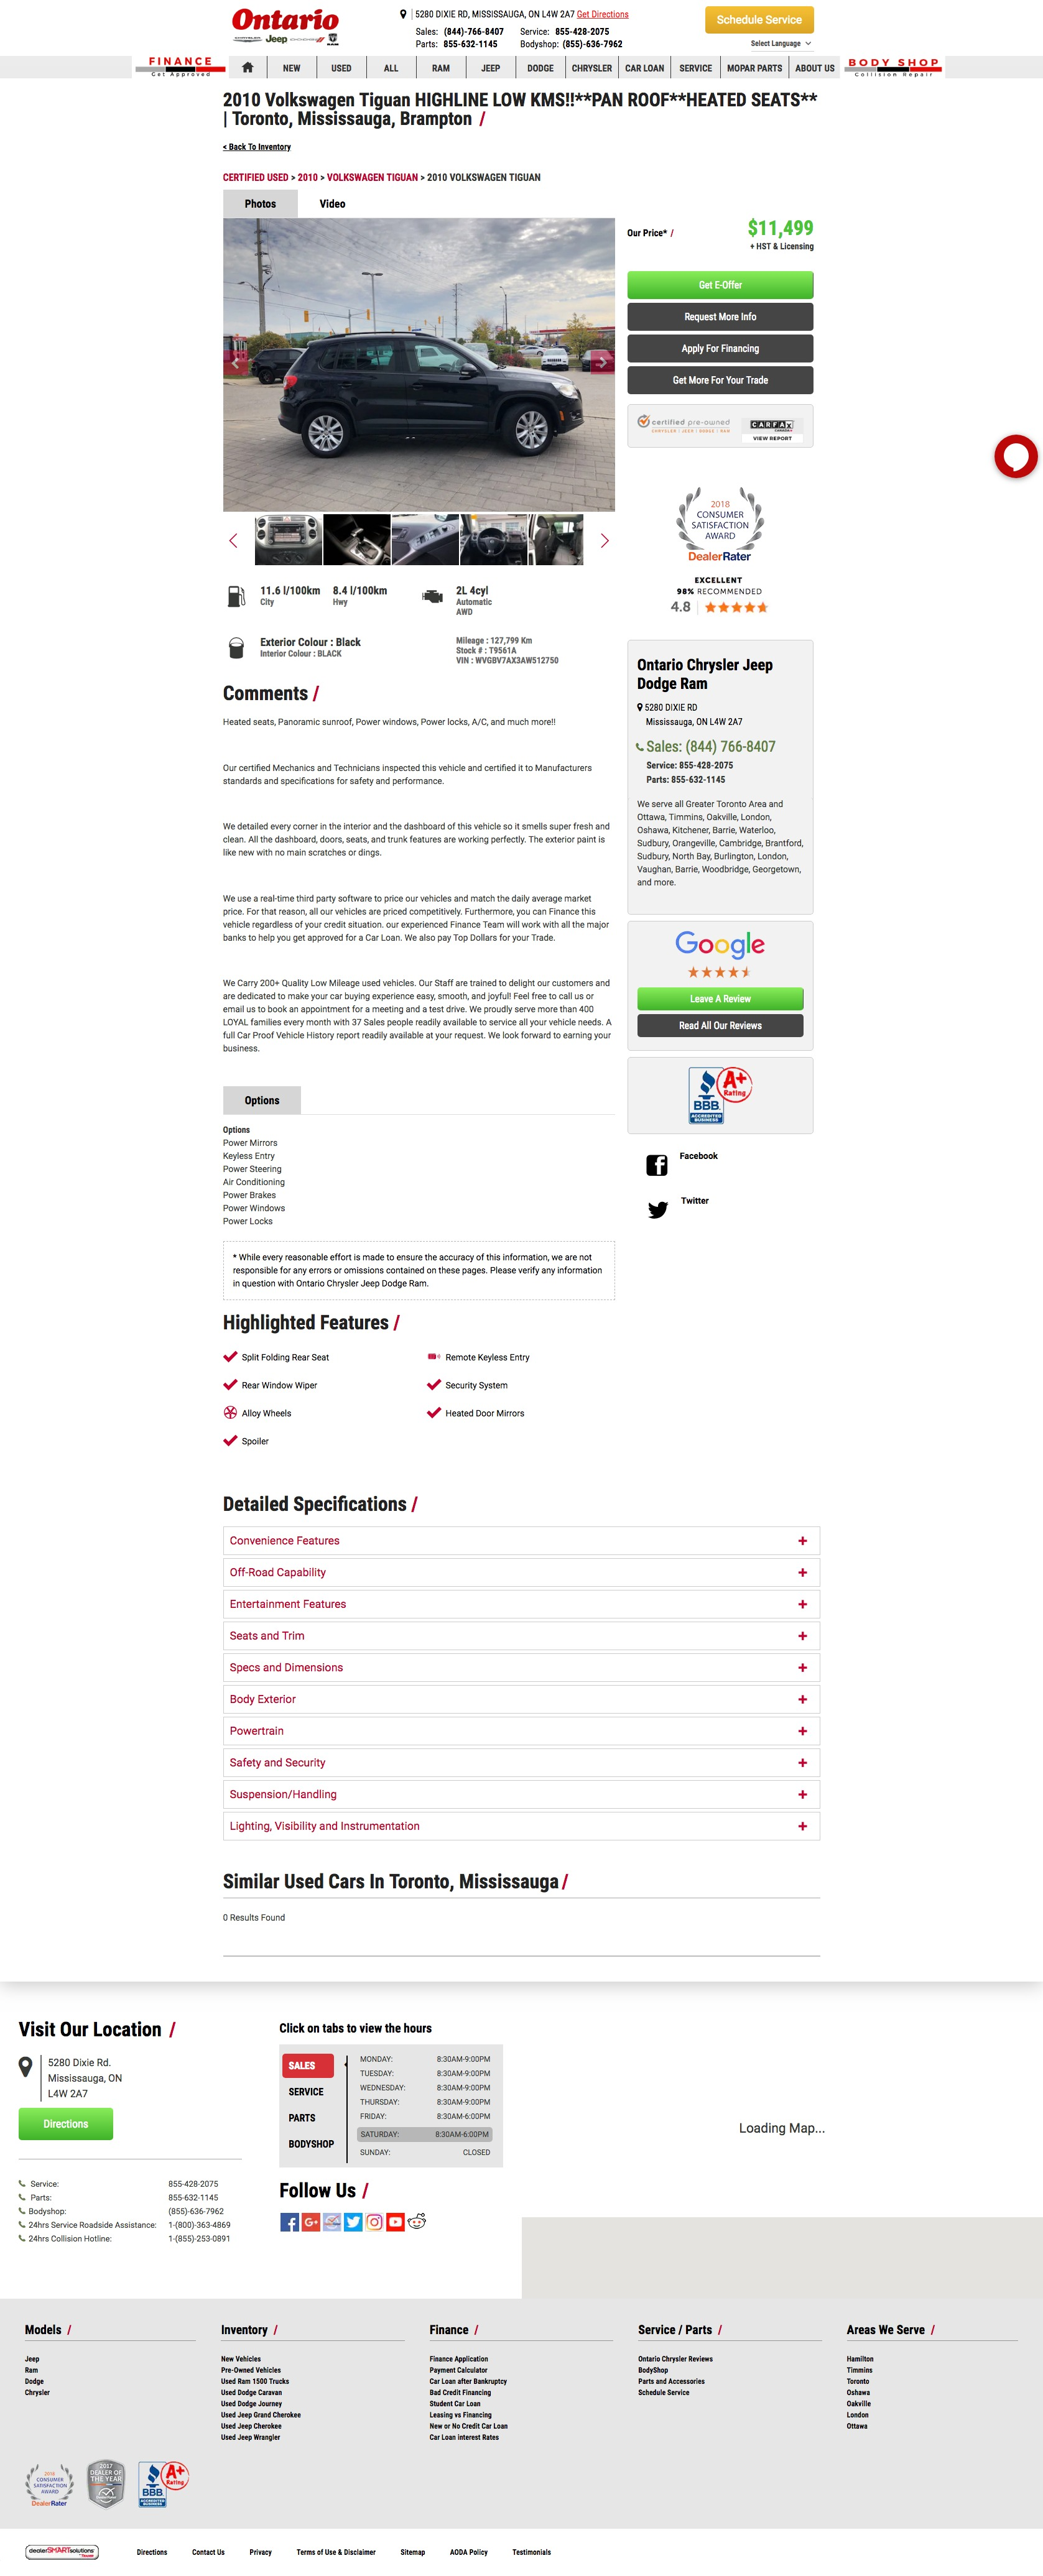car: (601, 534, 609, 549)
